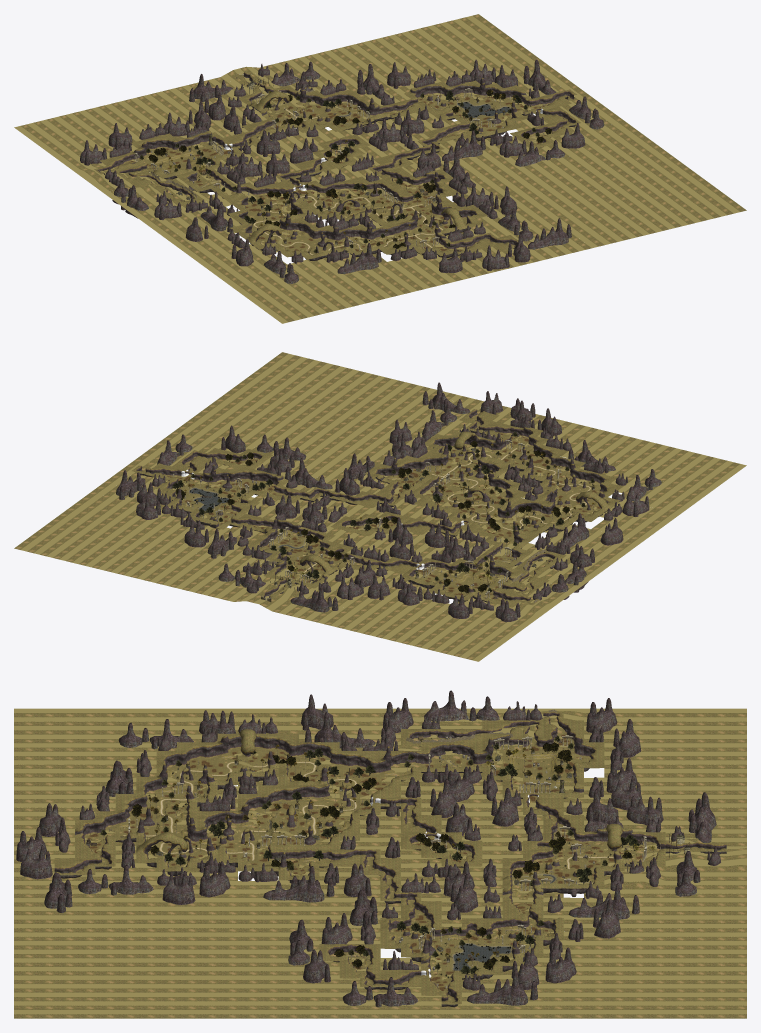
File: map_F01_01.glb
3 renders of one model, top to bottom at view 1: azimuth 30°, elevation 25°; view 2: azimuth 150°, elevation 25°; view 3: azimuth 270°, elevation 25°, orthographic. The views are drawn at different scales.
Parts seen in each view (by area): view 1: default_ground, FM_F01_mount01_ASA (×6), FM_F01_mount01_ATA (×5), FM_F01_mount01_AEA; view 2: default_ground, FM_F01_mount01_ATA (×3), FM_F01_mount01_ASA (×2), FM_F01_mount01_AEA_mr; view 3: default_ground, FM_F01_mount01_AUA (×15), FM_F01_mount01_ATA (×8), FM_F01_mount01_AVA (×10), FM_F01_mount01_ASA (×6), FM_F01_mount02_ALA (×8), FM_F01_mount02_AKA (×5), FM_F01_mount01_AEA (×4), FM_F01_mount01_AEA_mr (×2), FM_F01_mount01_AWA (×3), OM_28_ho_pond01A.
Boxes of the visible parts, <box> form: default_ground: <box>14,14,746,323</box>; FM_F01_mount01_ASA (×6): <box>112,61,604,283</box>; FM_F01_mount01_ATA (×5): <box>189,59,571,273</box>; FM_F01_mount01_AEA: <box>144,133,181,156</box>; default_ground: <box>14,352,746,661</box>; FM_F01_mount01_ATA (×3): <box>285,382,470,612</box>; FM_F01_mount01_ASA (×2): <box>218,561,588,599</box>; FM_F01_mount01_AEA_mr: <box>224,465,263,488</box>; default_ground: <box>14,708,746,1018</box>; FM_F01_mount01_AUA (×15): <box>20,694,642,990</box>; FM_F01_mount01_ATA (×8): <box>44,712,716,1005</box>; FM_F01_mount01_AVA (×10): <box>16,698,663,983</box>; FM_F01_mount01_ASA (×6): <box>78,690,700,1007</box>; FM_F01_mount02_ALA (×8): <box>75,719,583,1000</box>; FM_F01_mount02_AKA (×5): <box>54,797,563,989</box>; FM_F01_mount01_AEA (×4): <box>115,733,604,820</box>; FM_F01_mount01_AEA_mr (×2): <box>177,742,298,811</box>; FM_F01_mount01_AWA (×3): <box>136,729,624,863</box>; OM_28_ho_pond01A: <box>453,944,510,970</box>.
Size of the model in its own units: 1296 by 82.91 by 1296.
421 materials, 420 textured.
